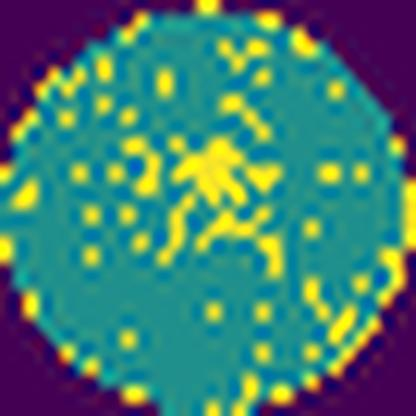Center: (129, 128, 292, 276)
